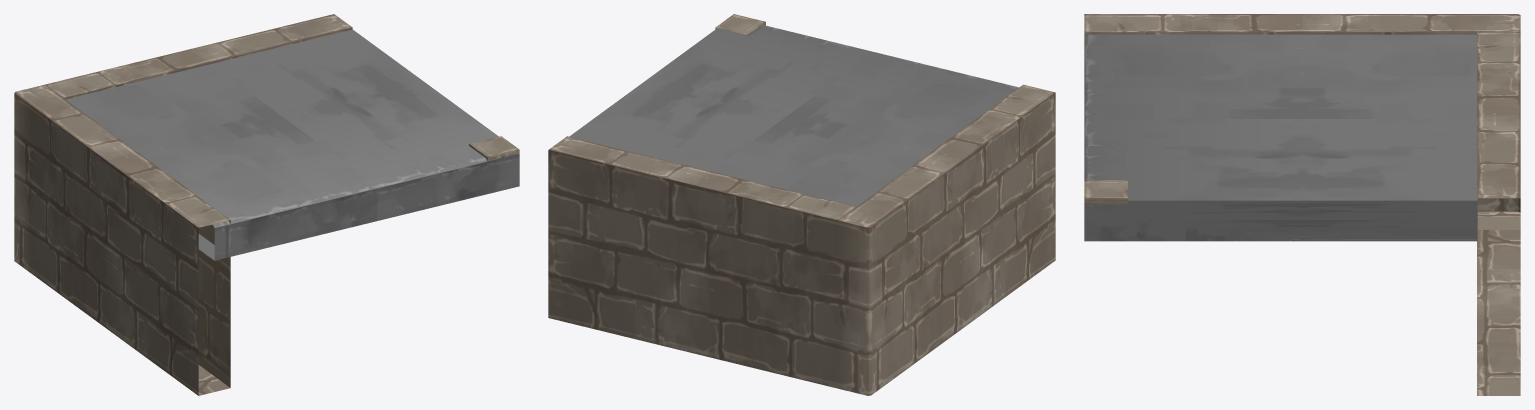
The model's file is Stairs_Exterior_Platform45.glb.
The picture shows the model from 3 angles, left to right: view 1: azimuth 30°, elevation 25°; view 2: azimuth 150°, elevation 25°; view 3: azimuth 270°, elevation 25°; orthographic projection. The views are drawn at different scales.
Visible parts, largest first — view 1: Stairs_Exterior_Platform45; view 2: Stairs_Exterior_Platform45; view 3: Stairs_Exterior_Platform45.
Part boxes in pixels (x1,y1,x2,y2): Stairs_Exterior_Platform45: (14, 14, 519, 395); Stairs_Exterior_Platform45: (548, 14, 1055, 395); Stairs_Exterior_Platform45: (1084, 14, 1520, 395).
Bounding box in the file's own units: 2 × 0.9999 × 2.
Materials: 2 (2 with a texture image).
